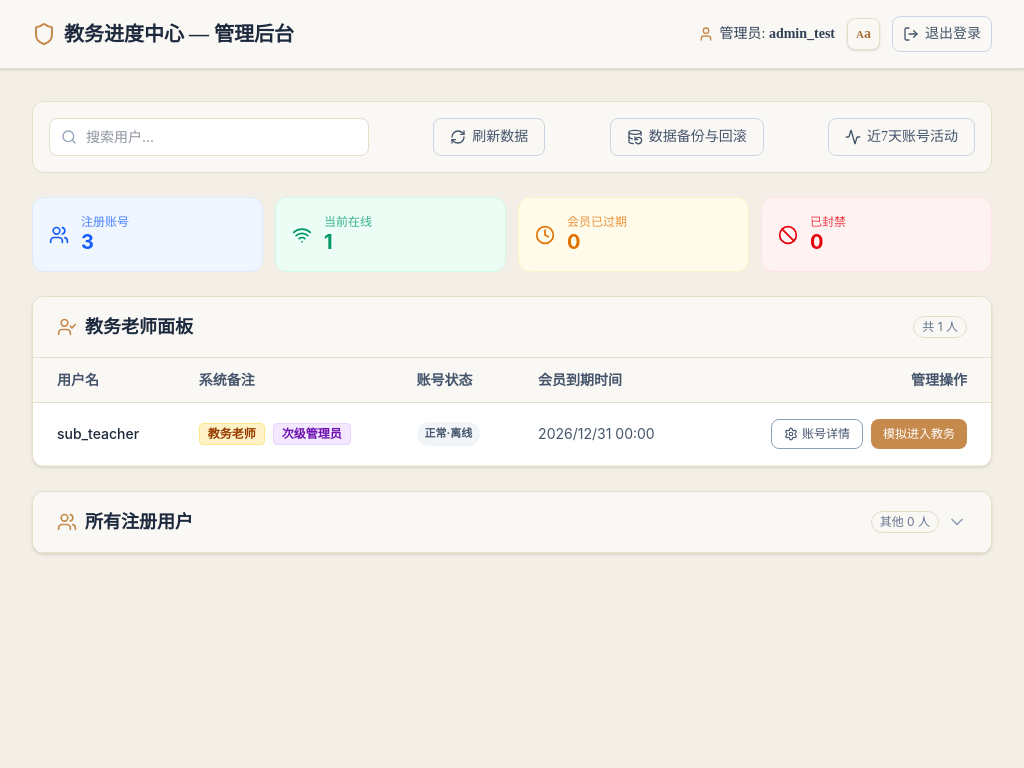
AdminDashboard Component › shows secondary-administrator device audit records without presenting them as restrictions
Expected: the text "sub_teacher" is shown, [33,402,175,466]
Click the button with aria-label "sub_teacher 账号详情" at point(817, 434), box [771,419,863,449]
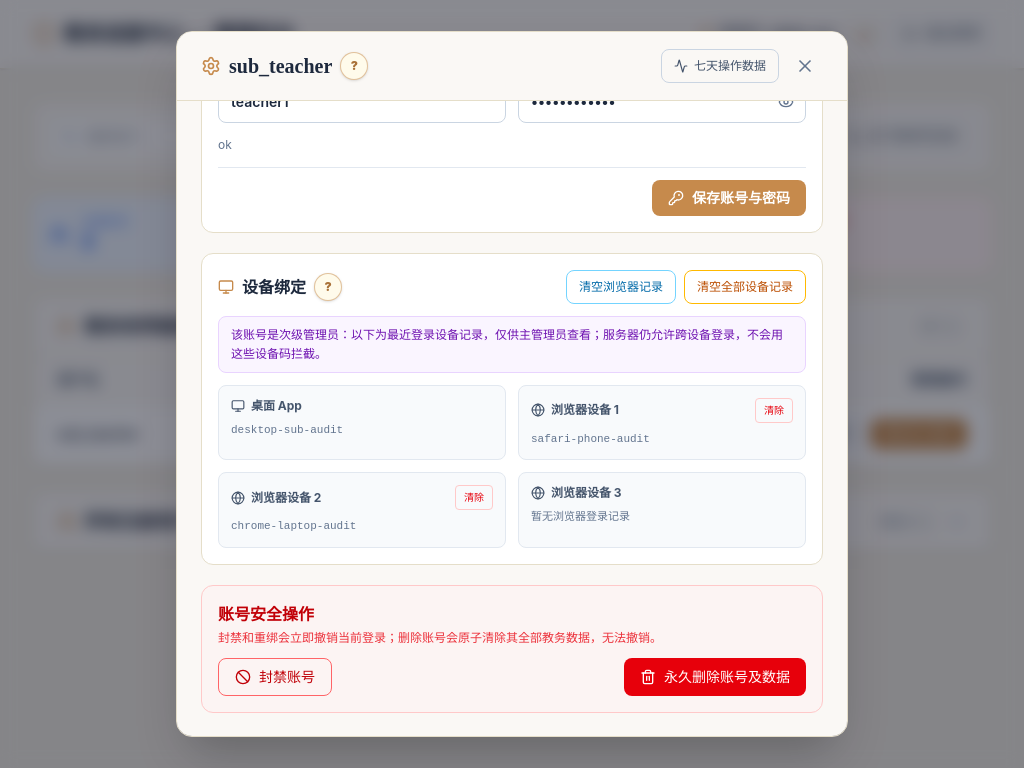
Expected: the text "该账号是次级管理员：以下为最近登录设备记录，仅供主管理员查看；服务器仍允许跨设备登录，不会用这些设备码拦截。" is shown, [218,316,806,373]
Expected: the text "desktop-sub-audit" is shown, [231,424,343,436]
Expected: the text "safari-phone-audit" is shown, [531,433,650,445]
